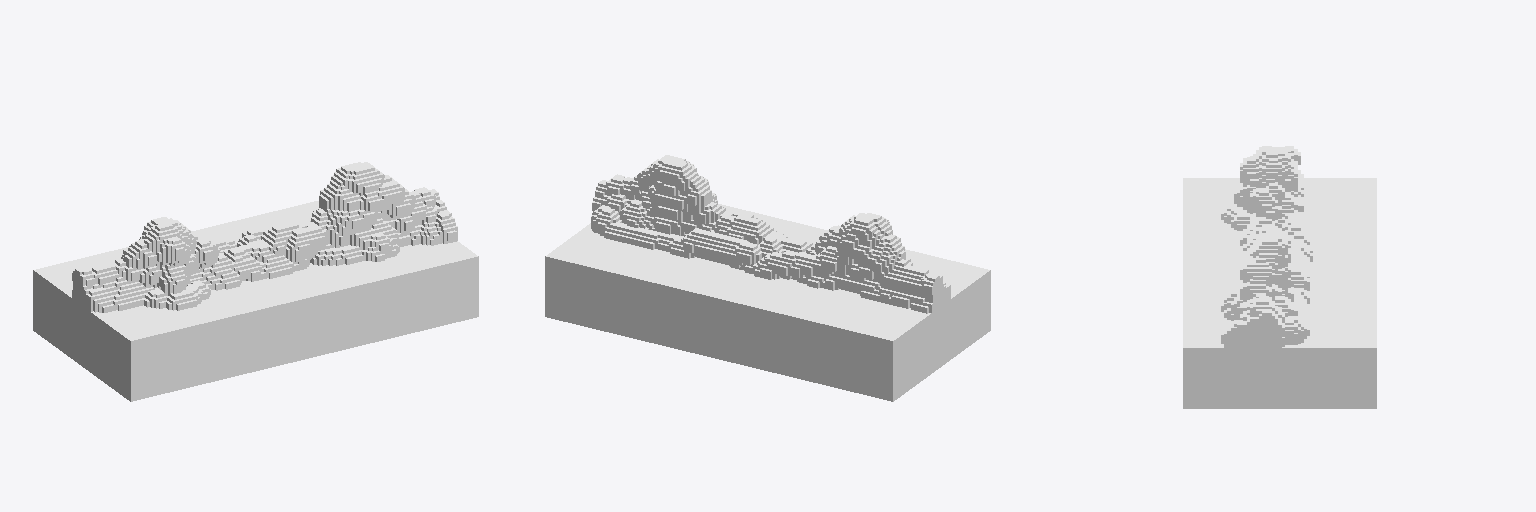
The model's file is Map_Field-4.obj.
3 renders of one model, left to right at view 1: azimuth 30°, elevation 25°; view 2: azimuth 150°, elevation 25°; view 3: azimuth 270°, elevation 25°, orthographic.
Visible parts, largest first — view 1: Map_Field-4; view 2: Map_Field-4; view 3: Map_Field-4.
Boxes of the visible parts, x1,y1,x2,y2 form: Map_Field-4: [33, 162, 478, 401]; Map_Field-4: [545, 155, 990, 401]; Map_Field-4: [1183, 146, 1376, 408].
Bounding box in the file's own units: 126 × 47 × 61.